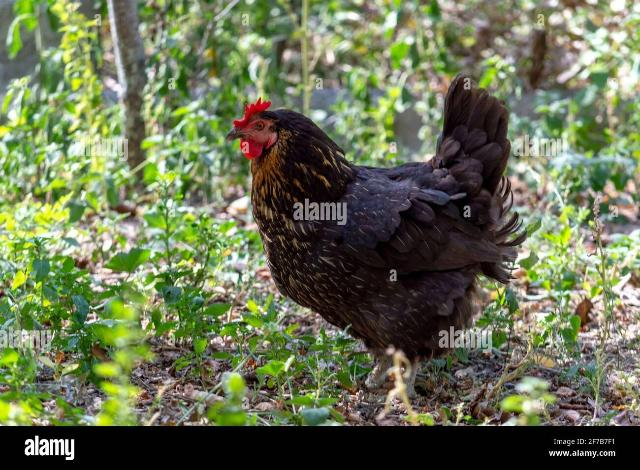Chicken: (224, 73, 530, 384)
